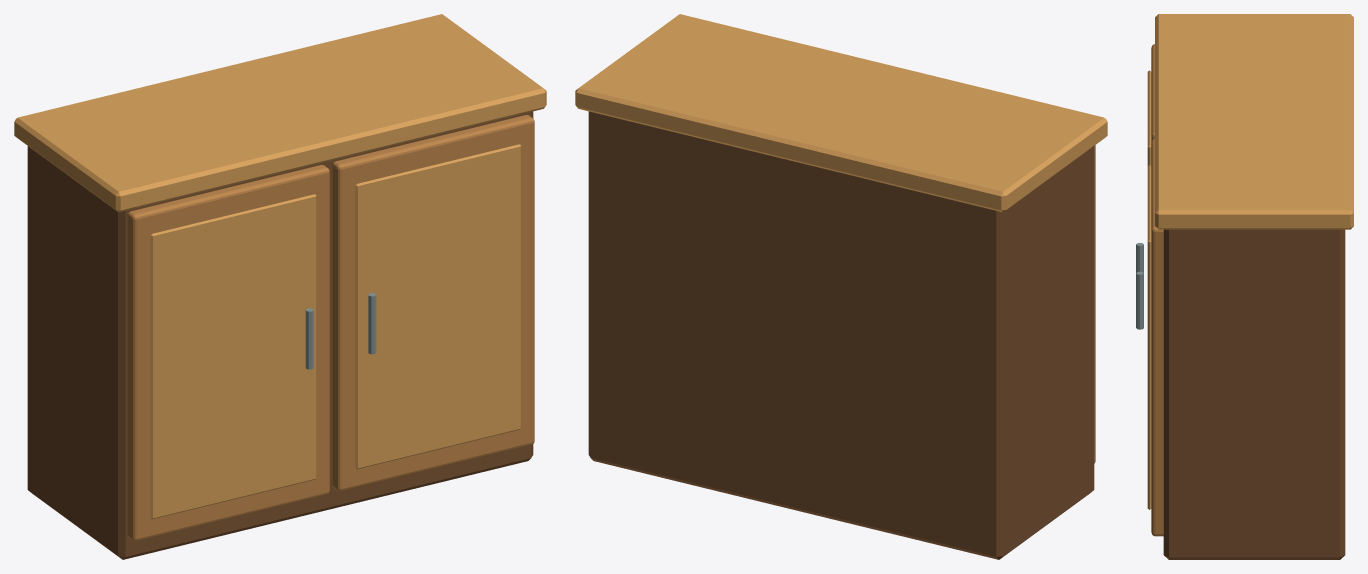
File: cabinet_low.glb
3 renders of one model, left to right at view 1: azimuth 30°, elevation 25°; view 2: azimuth 150°, elevation 25°; view 3: azimuth 270°, elevation 25°, orthographic. The views are drawn at different scales.
Visible parts, largest first — view 1: cabinet_low__oak_top, cabinet_low__oak_dark, cabinet_low__oak, cabinet_low__metal_light; view 2: cabinet_low__oak_dark, cabinet_low__oak_top; view 3: cabinet_low__oak_dark, cabinet_low__oak_top, cabinet_low__oak, cabinet_low__metal_light.
Boxes of the visible parts, box(x1,y1,x2,y2) form: cabinet_low__oak_top: box(14, 14, 546, 519); cabinet_low__oak_dark: box(27, 111, 533, 559); cabinet_low__oak: box(127, 115, 534, 541); cabinet_low__metal_light: box(305, 293, 376, 369); cabinet_low__oak_dark: box(588, 111, 1094, 559); cabinet_low__oak_top: box(575, 14, 1107, 212); cabinet_low__oak_dark: box(1163, 229, 1345, 559); cabinet_low__oak_top: box(1147, 14, 1353, 509); cabinet_low__oak: box(1151, 44, 1163, 536); cabinet_low__metal_light: box(1136, 243, 1143, 329).
Bounding box in the file's own units: 1.09 × 0.905 × 0.504.
